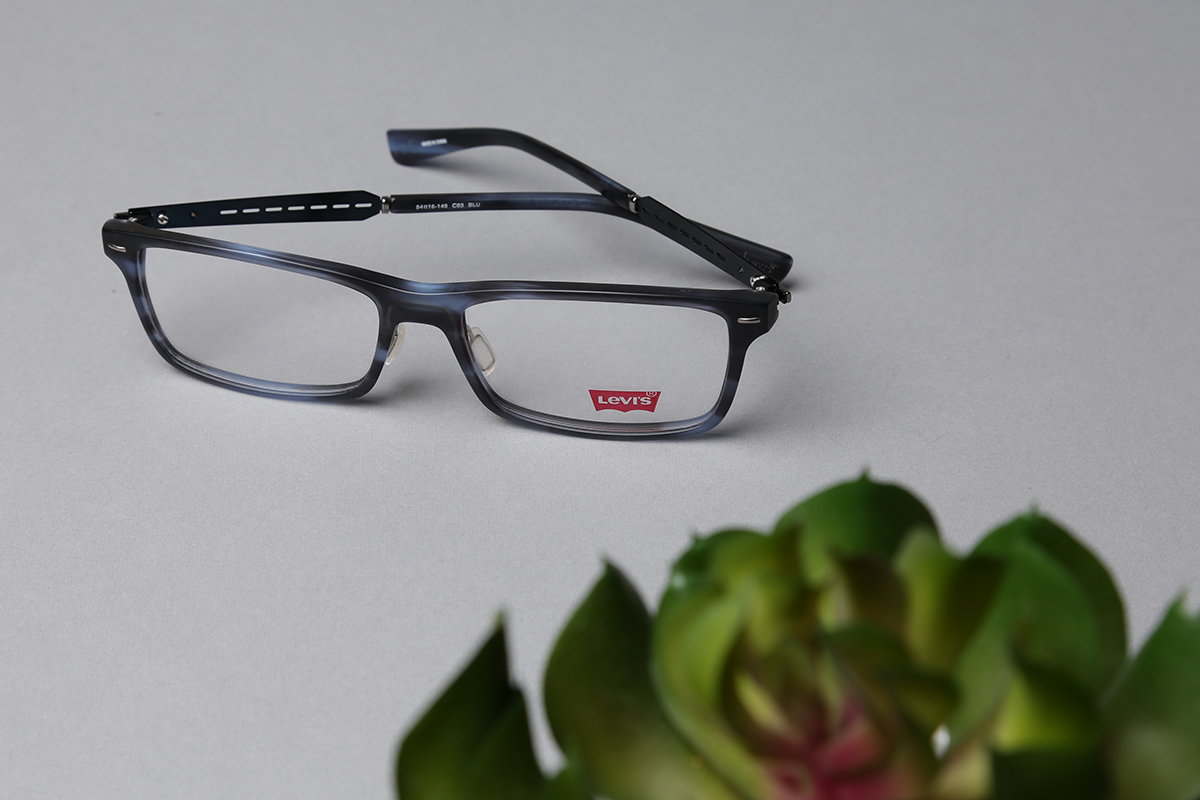Levi's: (584, 378, 671, 419)
